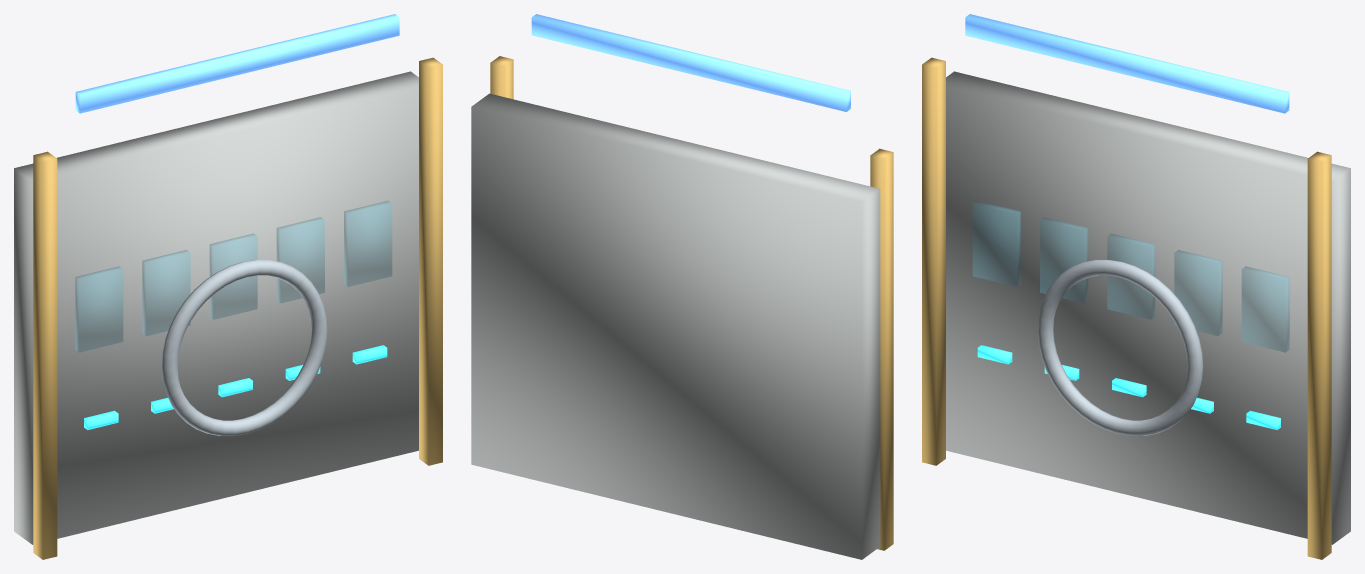
Rendered from 06_L88_HabitatSectorD_Habitat.glb.
The picture shows the model from 3 angles, left to right: view 1: azimuth 30°, elevation 25°; view 2: azimuth 150°, elevation 25°; view 3: azimuth 330°, elevation 25°; orthographic projection.
Parts seen in each view (by area): view 1: L87_Habitat_Part_0000, L87_Habitat_Part_0001, L87_Habitat_Part_0002, L87_Habitat_Part_0004, L87_Habitat_Part_0005, L87_Habitat_Part_0003; view 2: L87_Habitat_Part_0000, L87_Habitat_Part_0005, L87_Habitat_Part_0001; view 3: L87_Habitat_Part_0000, L87_Habitat_Part_0001, L87_Habitat_Part_0002, L87_Habitat_Part_0004, L87_Habitat_Part_0005, L87_Habitat_Part_0003.
Boxes of the visible parts, left/top/right/bottom form: L87_Habitat_Part_0000: left=14, top=71, right=418, bottom=544; L87_Habitat_Part_0001: left=33, top=57, right=442, bottom=559; L87_Habitat_Part_0002: left=75, top=201, right=391, bottom=352; L87_Habitat_Part_0004: left=161, top=260, right=327, bottom=435; L87_Habitat_Part_0005: left=75, top=14, right=399, bottom=113; L87_Habitat_Part_0003: left=84, top=345, right=387, bottom=429; L87_Habitat_Part_0000: left=471, top=93, right=880, bottom=559; L87_Habitat_Part_0005: left=531, top=14, right=850, bottom=111; L87_Habitat_Part_0001: left=490, top=56, right=893, bottom=550; L87_Habitat_Part_0000: left=946, top=71, right=1350, bottom=544; L87_Habitat_Part_0001: left=922, top=57, right=1331, bottom=559; L87_Habitat_Part_0002: left=973, top=201, right=1289, bottom=352; L87_Habitat_Part_0004: left=1037, top=260, right=1203, bottom=435; L87_Habitat_Part_0005: left=965, top=14, right=1289, bottom=113; L87_Habitat_Part_0003: left=977, top=345, right=1280, bottom=429.
Bounding box in the file's own units: 3.63 × 3.92 × 0.57.
